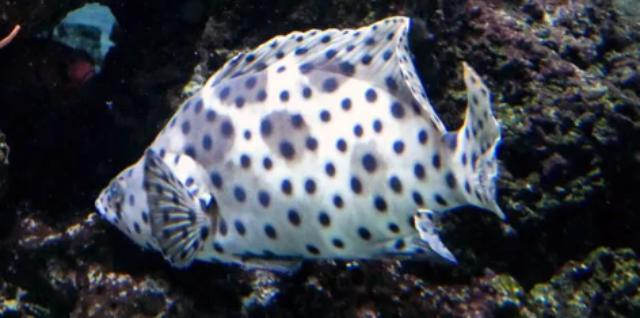Mulut: (86, 181, 122, 233)
Sirip Anal: (372, 208, 470, 276)
Sirip Dada: (130, 140, 222, 276)
Sirip Ekor: (448, 54, 522, 224)
Sirip Perut: (220, 242, 316, 292)
Sirip Punggung: (210, 9, 454, 133)
